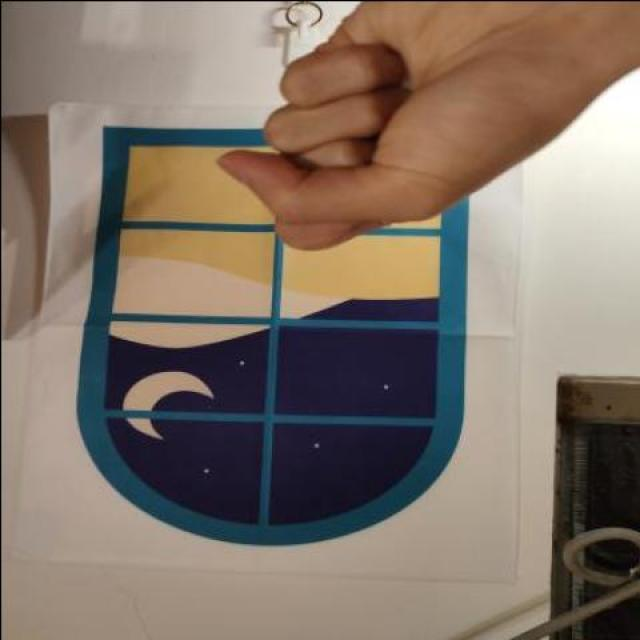Closed Hand: (216, 0, 632, 251)
